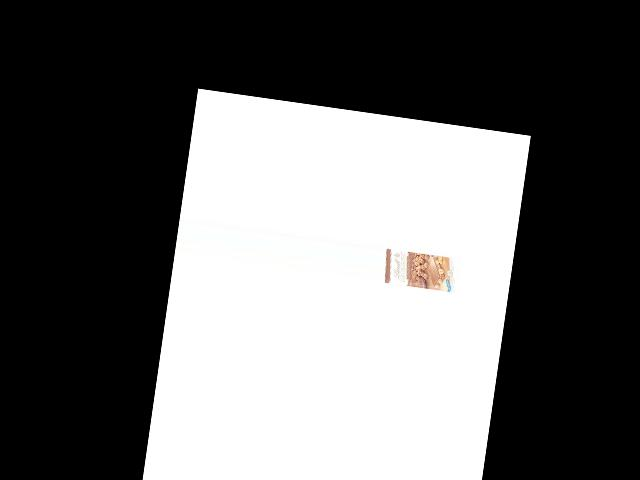chocolate: (384, 243, 457, 294)
